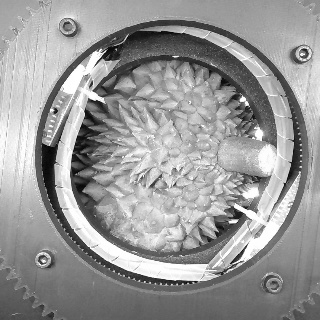base: (211, 131, 245, 176)
end: (257, 143, 277, 177)
